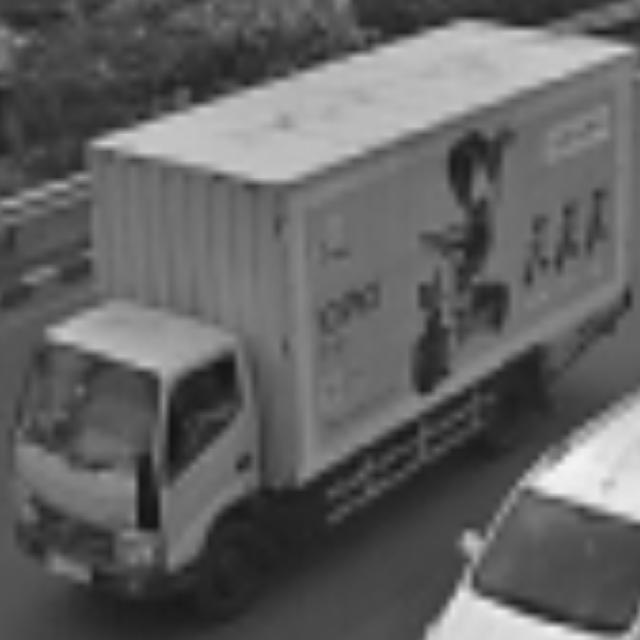truck: (1, 279, 280, 637)
